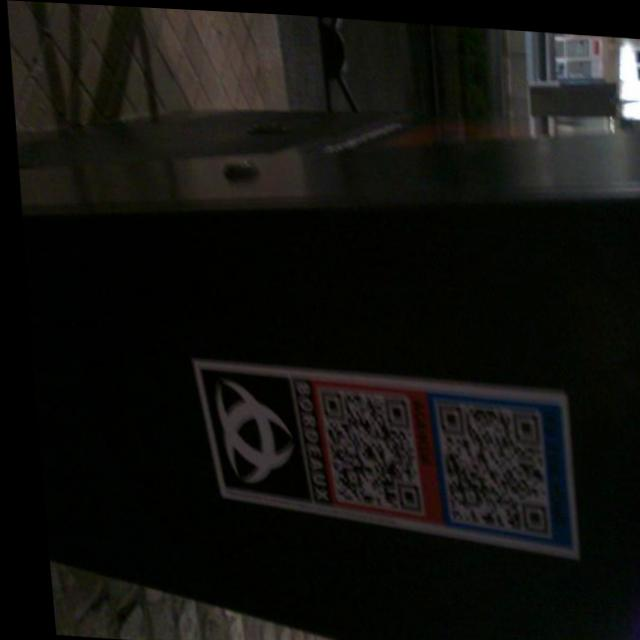qrcode: (429, 402, 542, 530), (311, 389, 414, 508)
